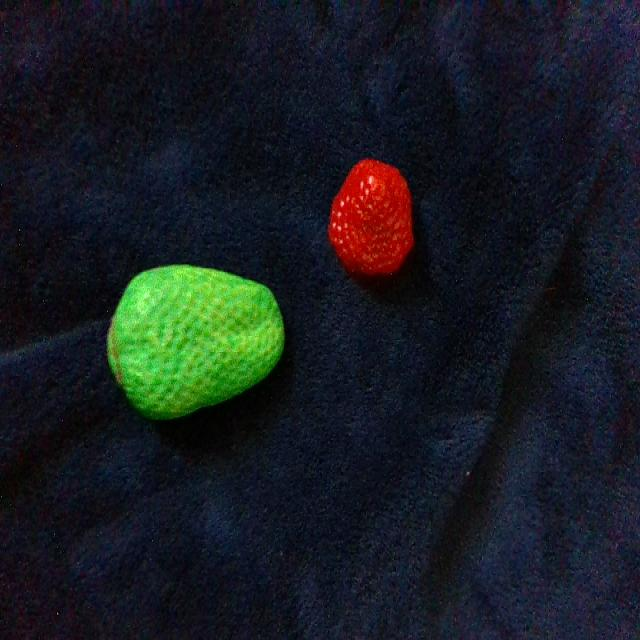chica_roja: (329, 159, 413, 272)
verde: (108, 265, 284, 419)
